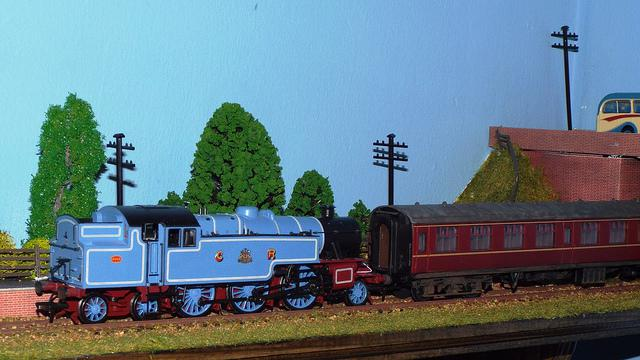Train: (34, 199, 640, 329)
